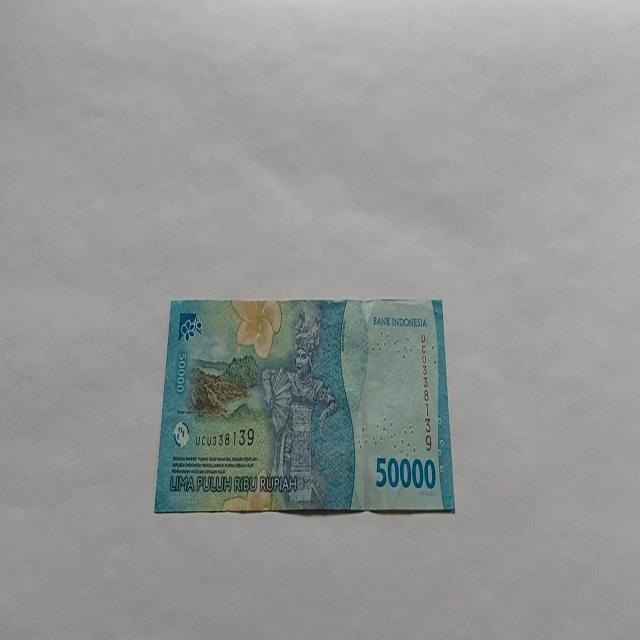lima puluh ribu rupiah: (152, 296, 456, 516)
